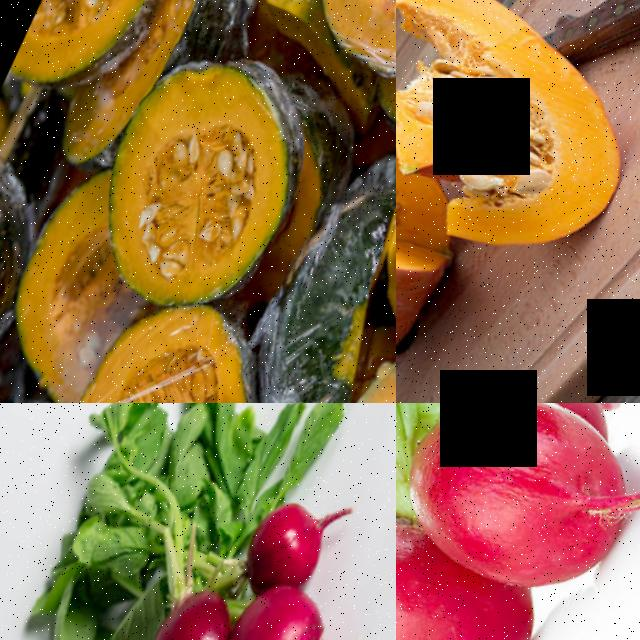pumpkin: (56, 21, 349, 341), (396, 0, 640, 316), (45, 275, 298, 403), (396, 21, 472, 403), (0, 0, 213, 119), (0, 130, 67, 383), (269, 0, 396, 122), (274, 305, 396, 403)
radishes: (396, 403, 640, 640)
spinach: (0, 419, 396, 640)
